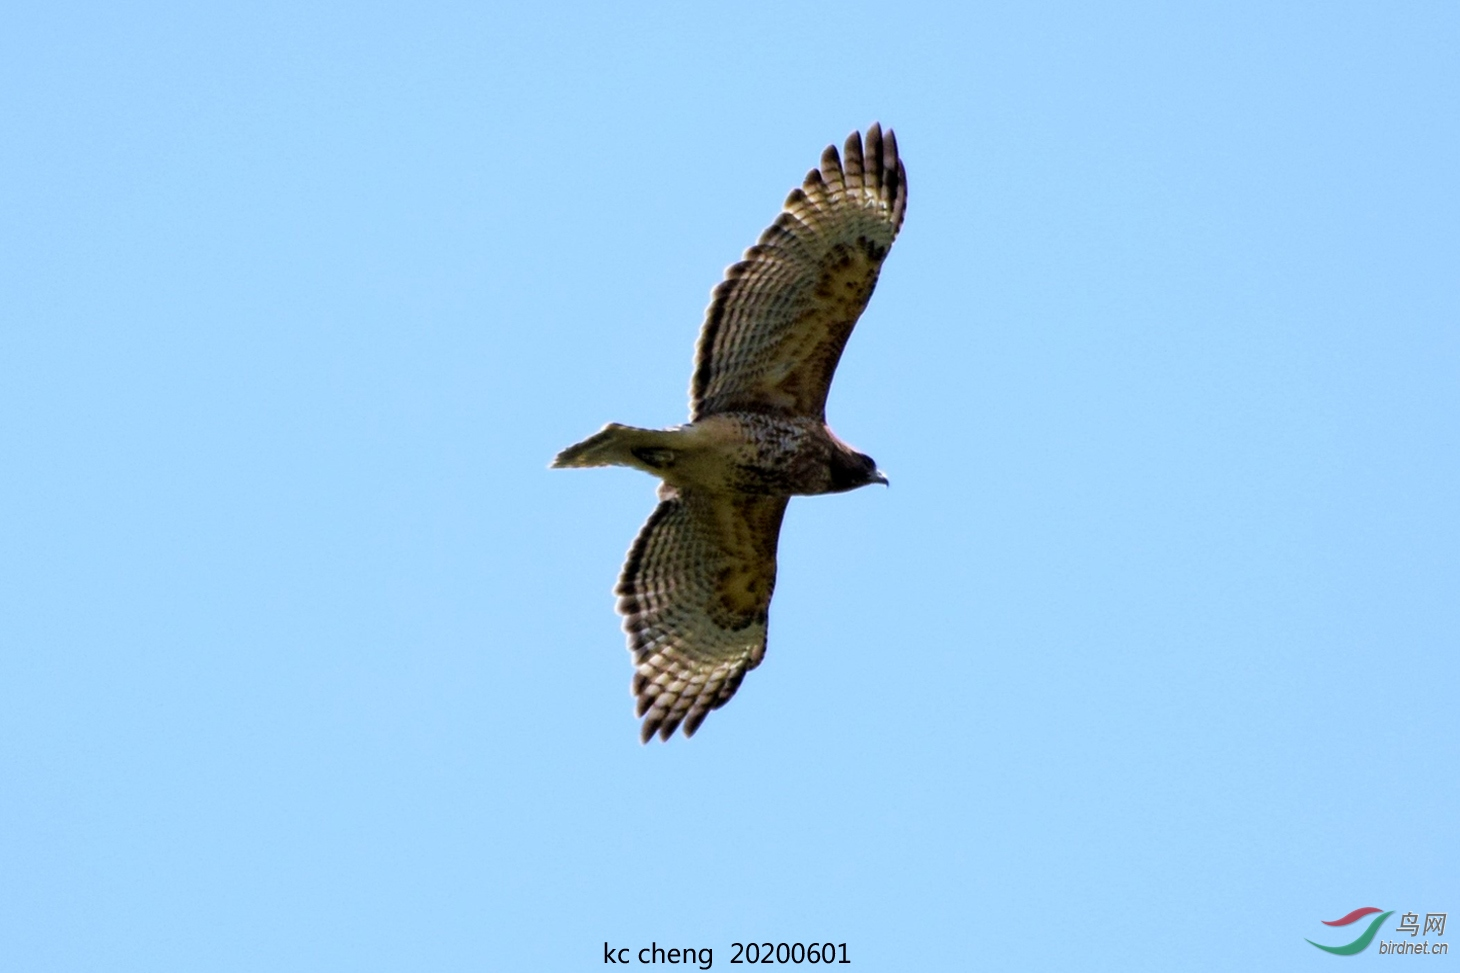bird: (532, 121, 915, 751)
